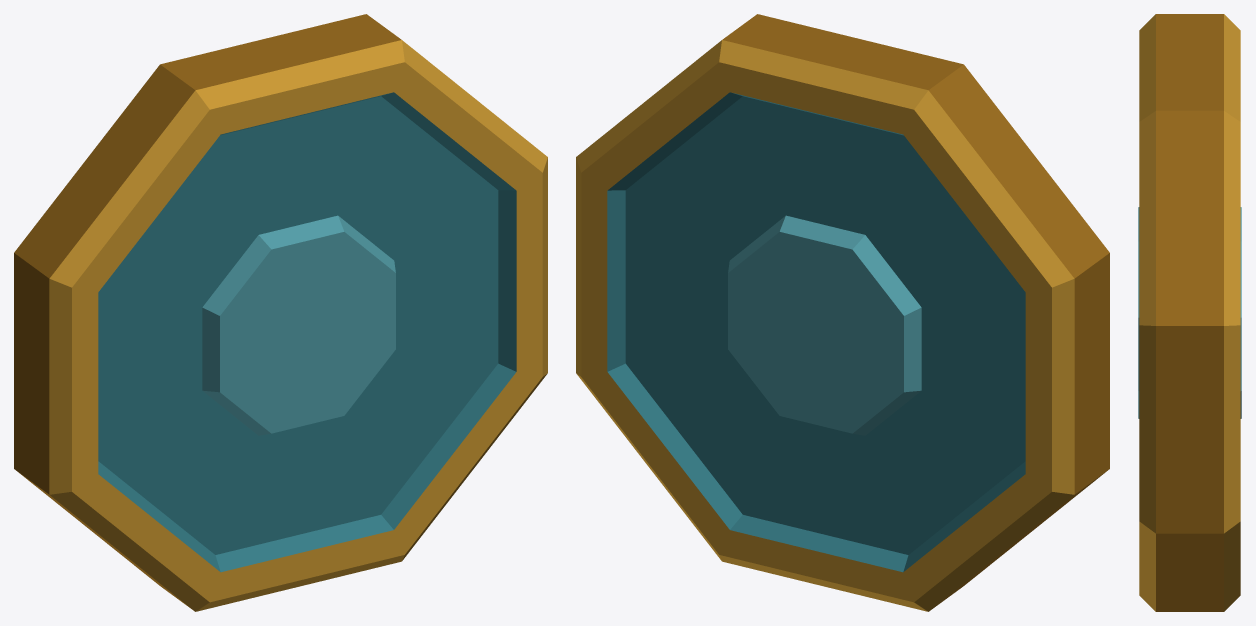
Rendered from Coin_21.glb.
3 renders of one model, left to right at view 1: azimuth 30°, elevation 25°; view 2: azimuth 150°, elevation 25°; view 3: azimuth 270°, elevation 25°, orthographic. The views are drawn at different scales.
Parts seen in each view (by area): view 1: Coin_21; view 2: Coin_21; view 3: Coin_21.
Boxes of the visible parts, x1=… form: Coin_21: x1=14, y1=14, x2=547, y2=611; Coin_21: x1=576, y1=14, x2=1109, y2=611; Coin_21: x1=1138, y1=14, x2=1241, y2=611.
Size of the model in its own units: 1.49 by 1.49 by 0.28.
